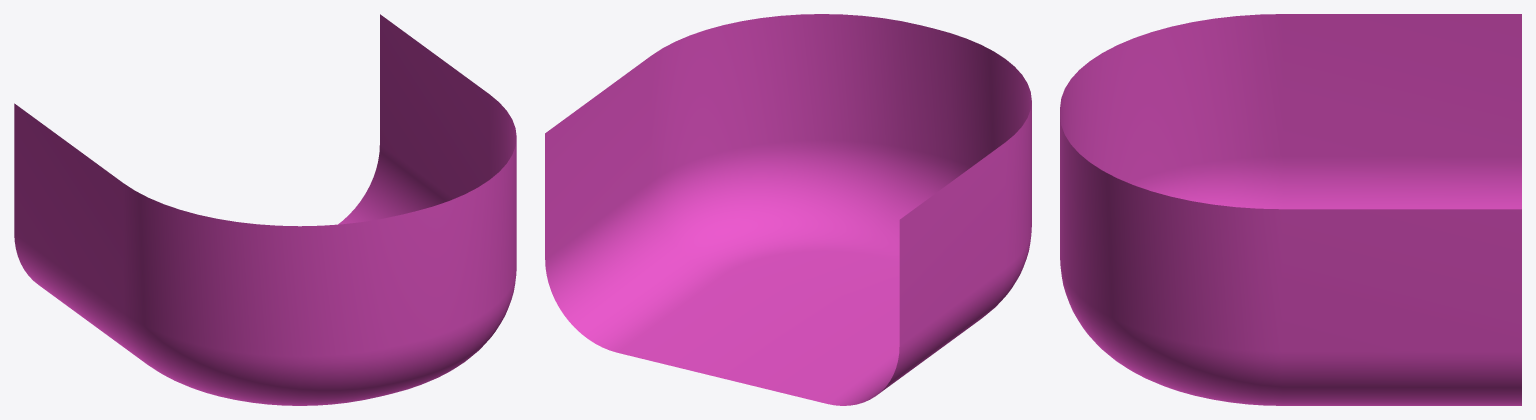
Rendered from cyclorama.glb.
The picture shows the model from 3 angles, left to right: view 1: azimuth 30°, elevation 25°; view 2: azimuth 150°, elevation 25°; view 3: azimuth 270°, elevation 25°; orthographic projection. The views are drawn at different scales.
Visible parts, largest first — view 1: Plane; view 2: Plane; view 3: Plane.
Part boxes in pixels (x1,y1,x2,y2): Plane: (14,14,516,405); Plane: (545,14,1031,405); Plane: (1060,14,1521,405).
Size of the model in its own units: 28.98 by 15.77 by 28.98.
